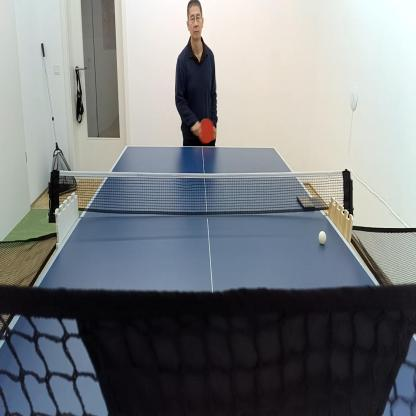Ball: (317, 229, 328, 246)
